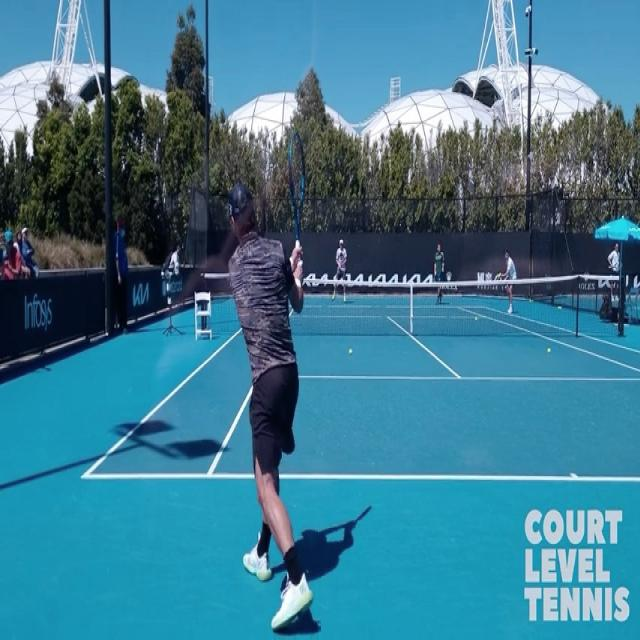backhand-finish: (219, 175, 321, 638)
